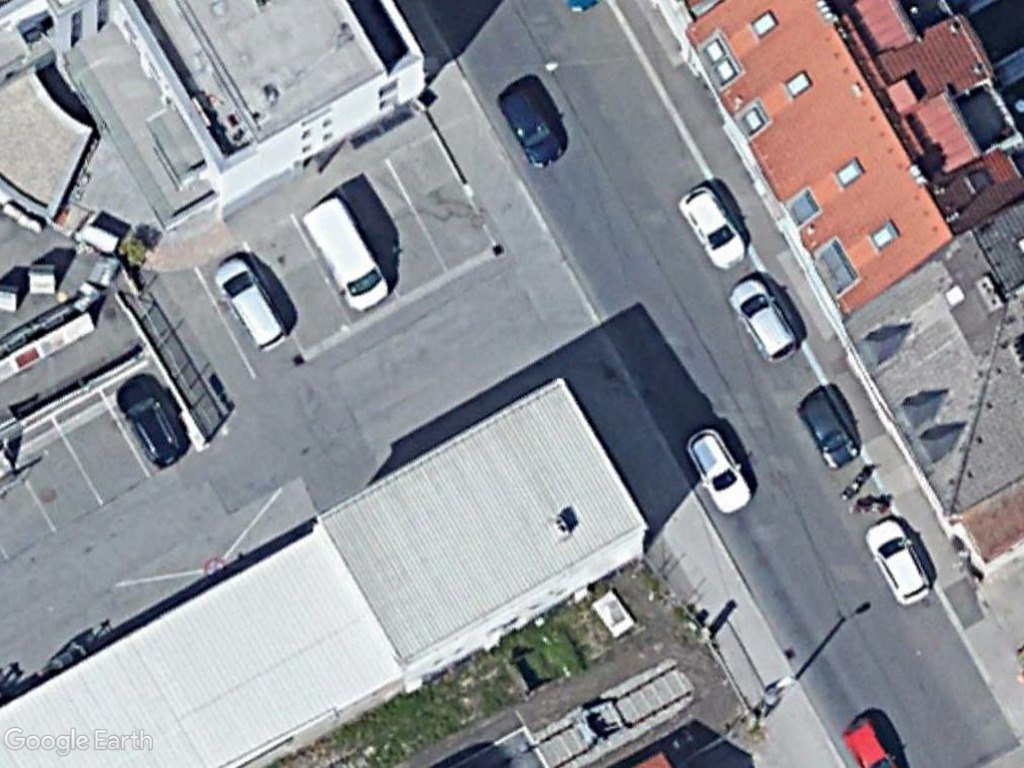car: (213, 254, 288, 355), (114, 377, 191, 472), (495, 81, 568, 172), (726, 277, 799, 366), (677, 182, 749, 272), (861, 517, 931, 609), (683, 425, 752, 515), (794, 391, 861, 472)
van: (300, 197, 391, 317)
